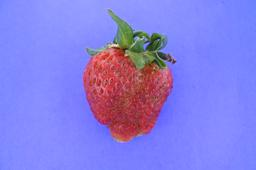red strawberry: (83, 20, 174, 143)
